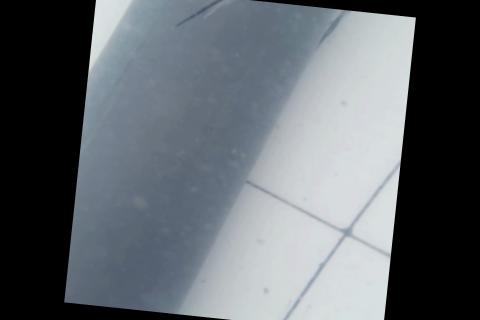keretakan: (175, 0, 322, 42)
